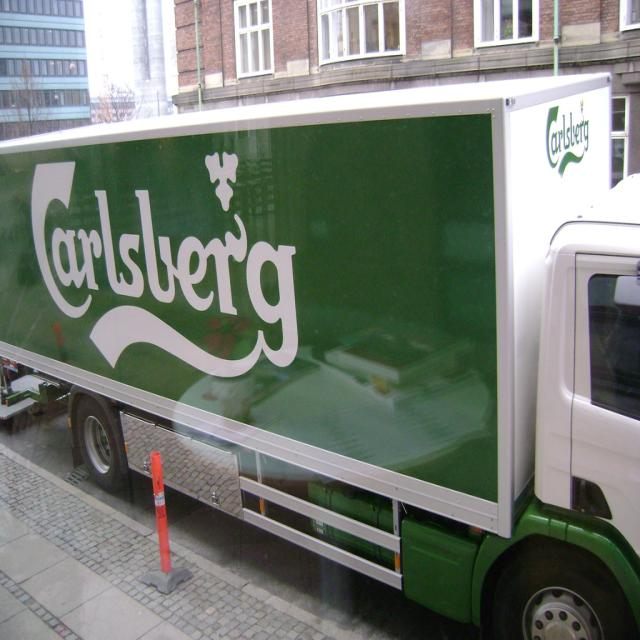carlsberg: (18, 145, 315, 394)
